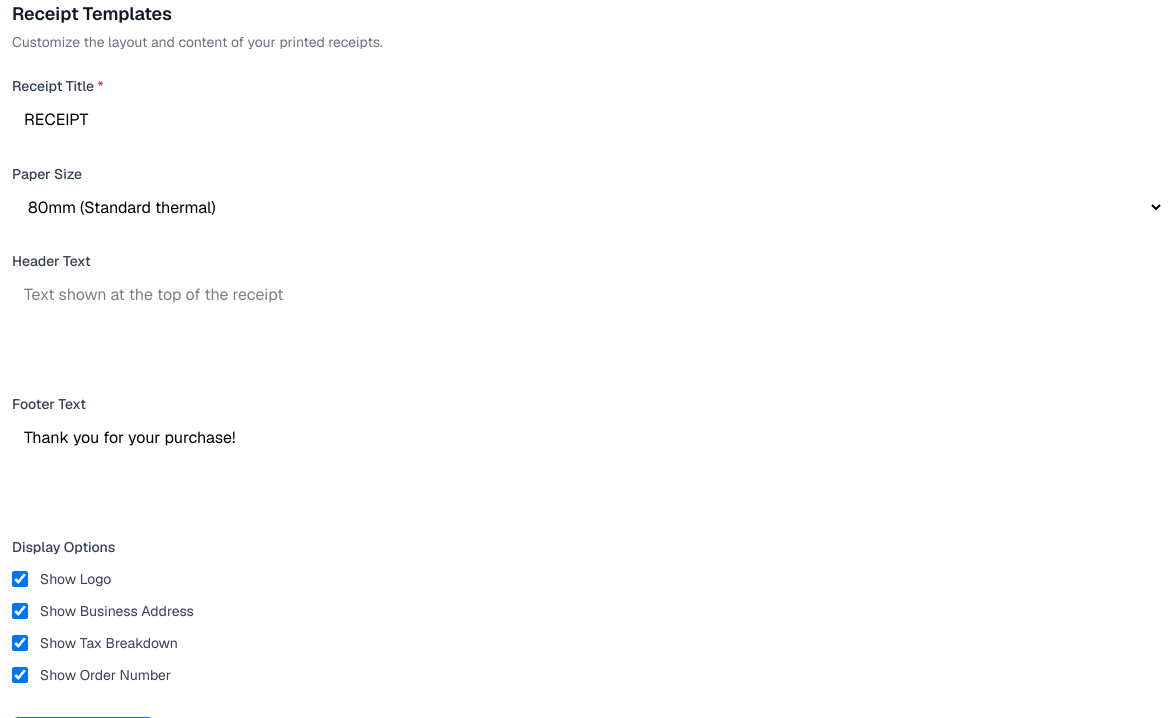
Test: ReceiptTemplateSettings › Validates required fields › shows error when receipt title is empty on submit
The width and height of the screenshot is (1176, 718).
Step 1. Clear the field labelled "Receipt Title *" → (588, 120), box [12,100,1164,140]
(page scrolled)
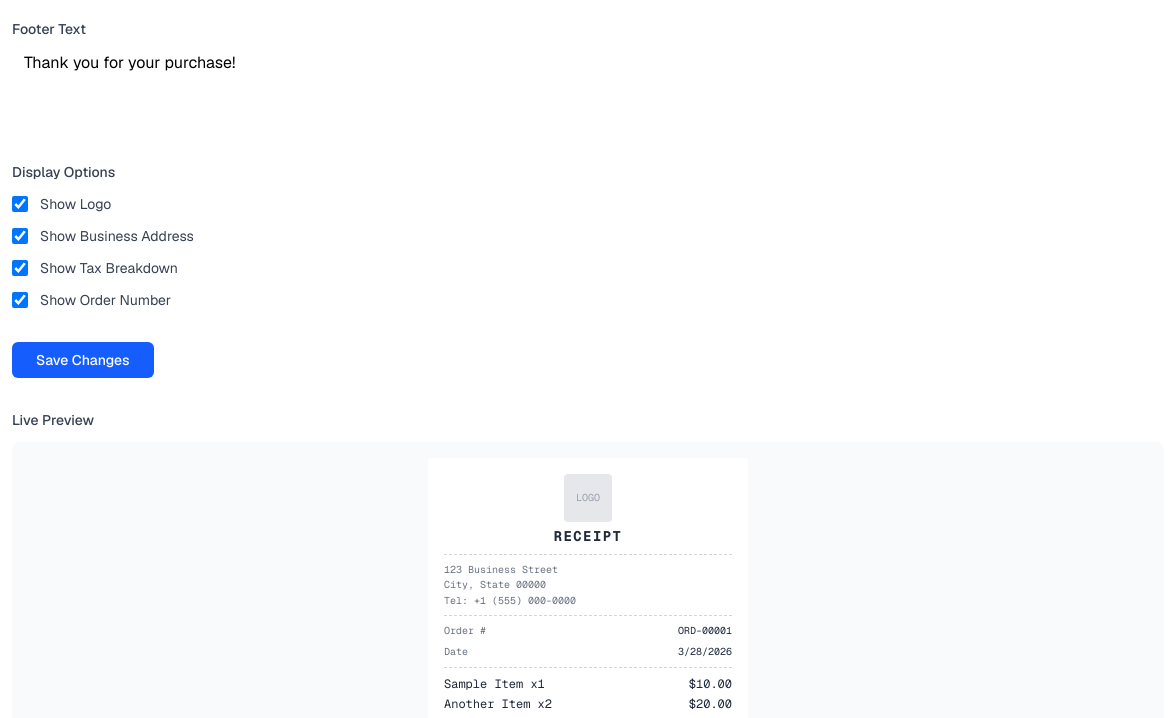
Step 2. Click the button "Save Changes" → (83, 360), box [12,342,154,378]
(page scrolled)
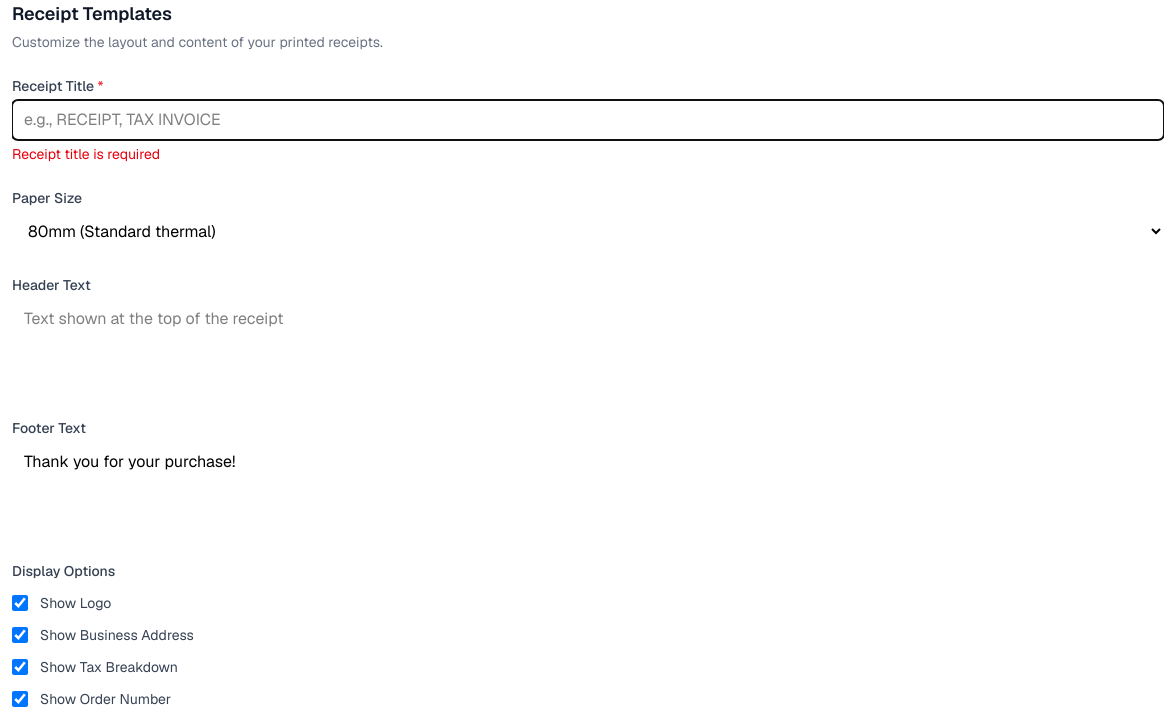
Result: the text "Receipt title is required" is shown at [12,145,160,163]
